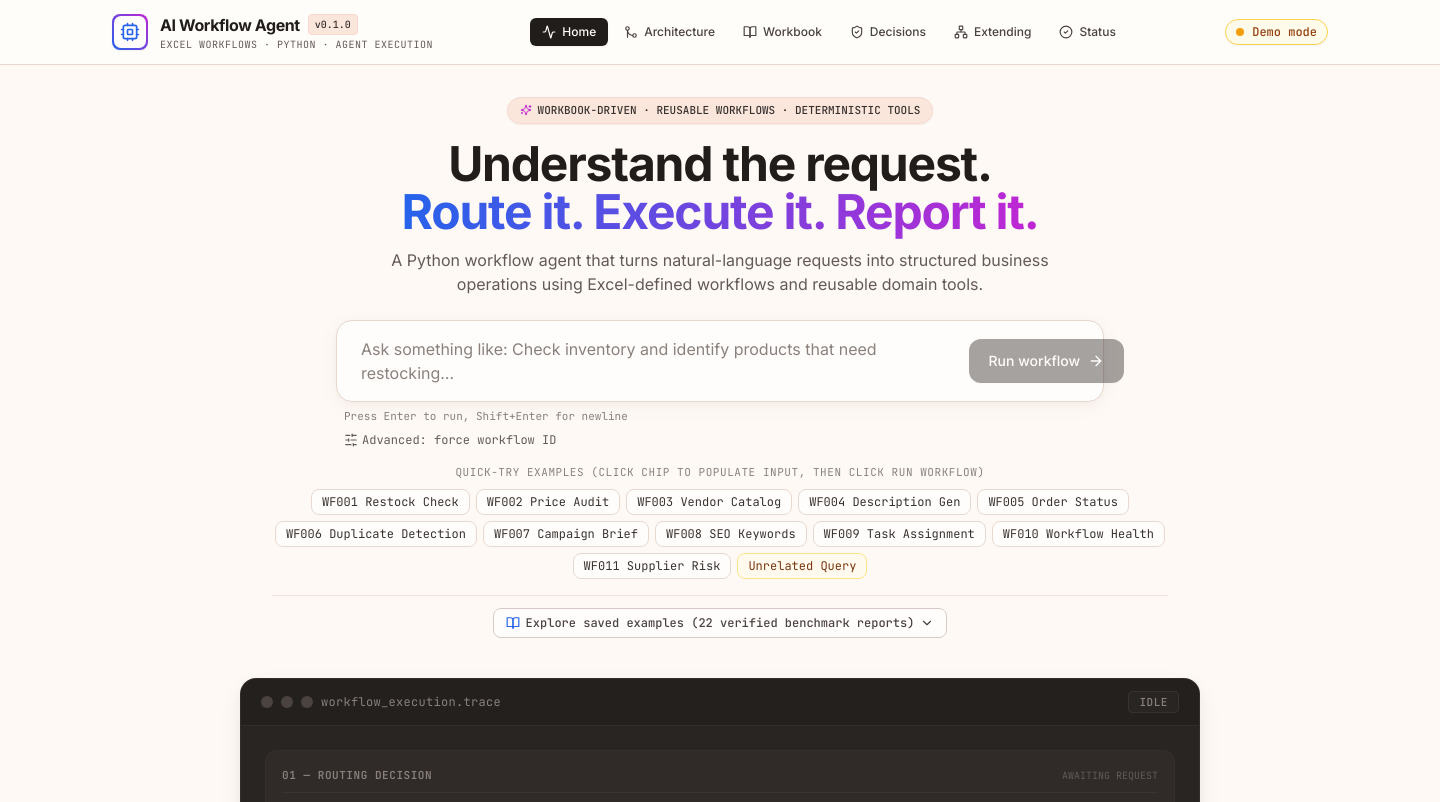
Test: AI Workflow Agent Frontend: Request-Driven Behavior › handles network failure gracefully without fabricating success output
The width and height of the screenshot is (1440, 802).
Replace the text in the text box with placeholder "Ask something like: Check inventory" with "Arbitrary custom user query": (653, 360) [345, 328, 960, 392]
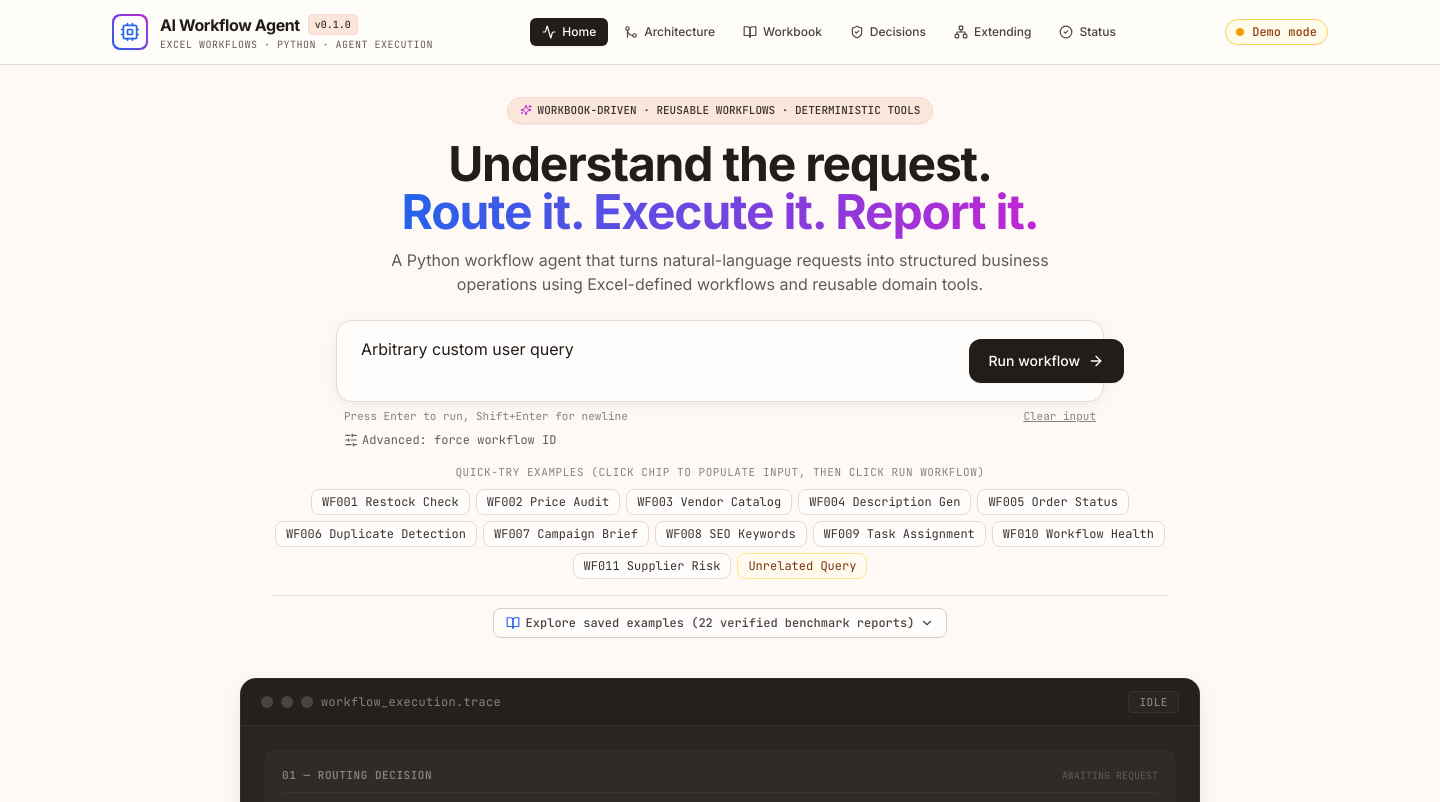
Click the button "Run workflow": click(1046, 360) [968, 338, 1124, 382]
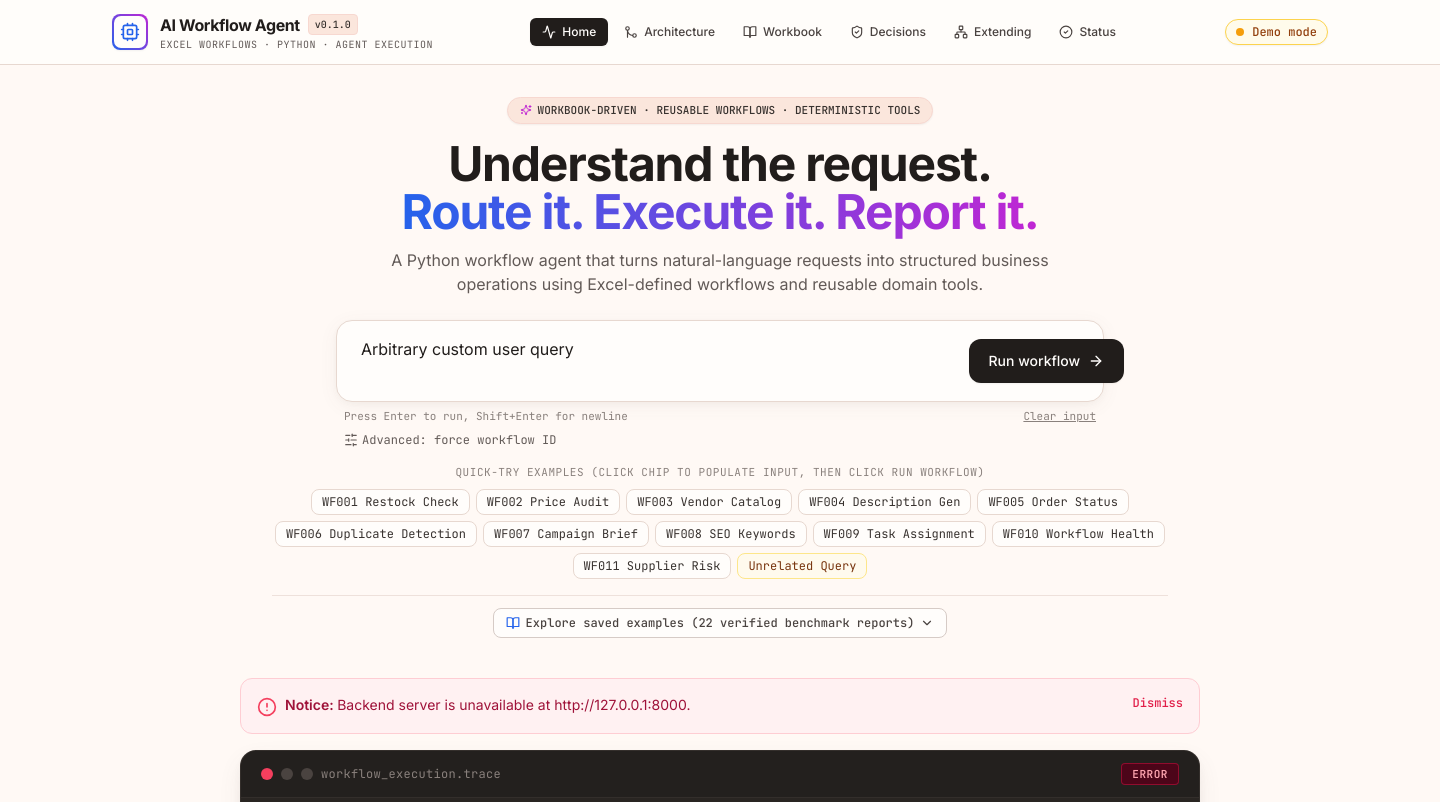
Expected: the text "Backend server is unavailable at http://127.0.0.1:8000." is shown, [337, 696, 690, 712]
